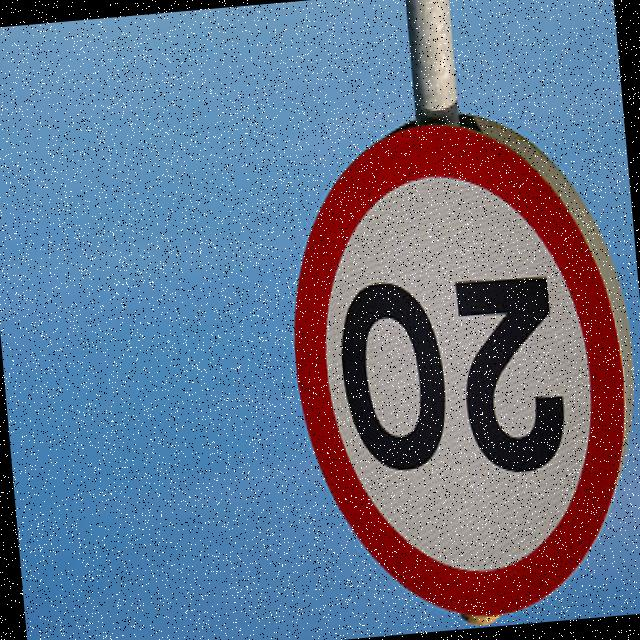speed_limit_20: (270, 98, 640, 639)
